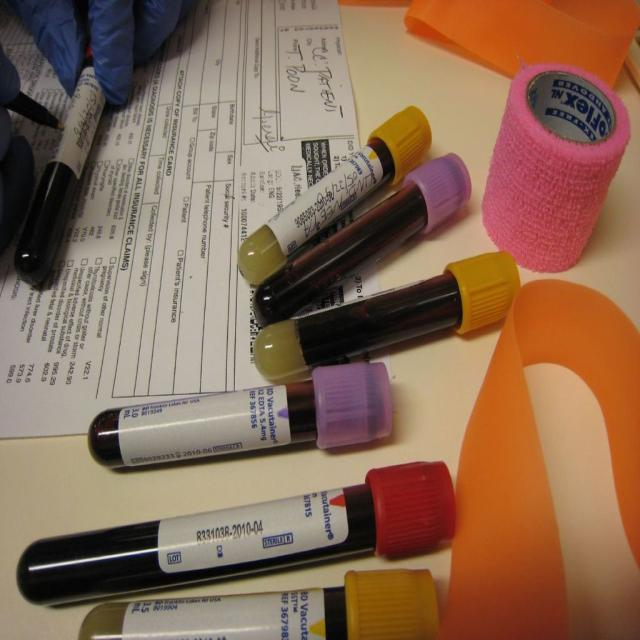pen: (0, 79, 64, 135)
